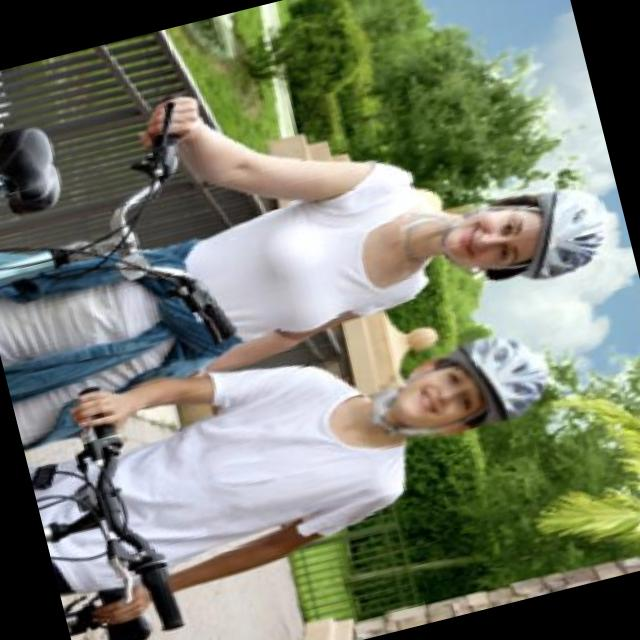With Helmet: (408, 167, 626, 310), (358, 316, 556, 462)
